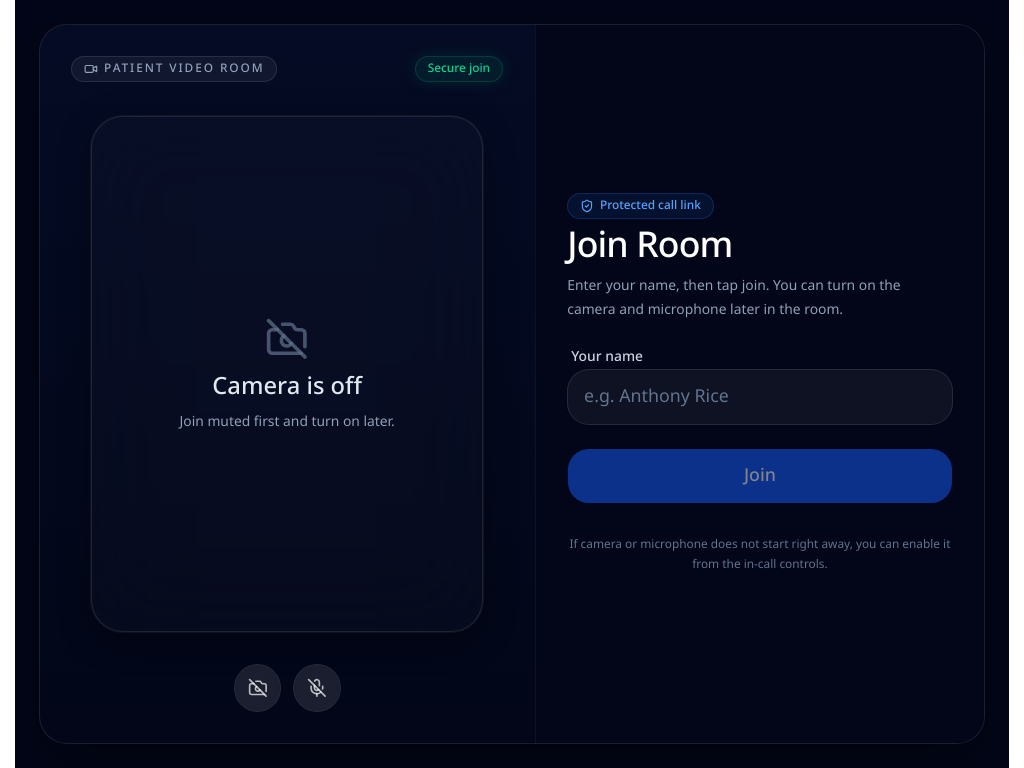
Test: Patient join bootstrap › does not start presence heartbeats when joinRoom throws during bootstrap
Type "Taylor Patient" into the field labelled "Your name" at x=760, y=397, box 567,369 -> 953,424
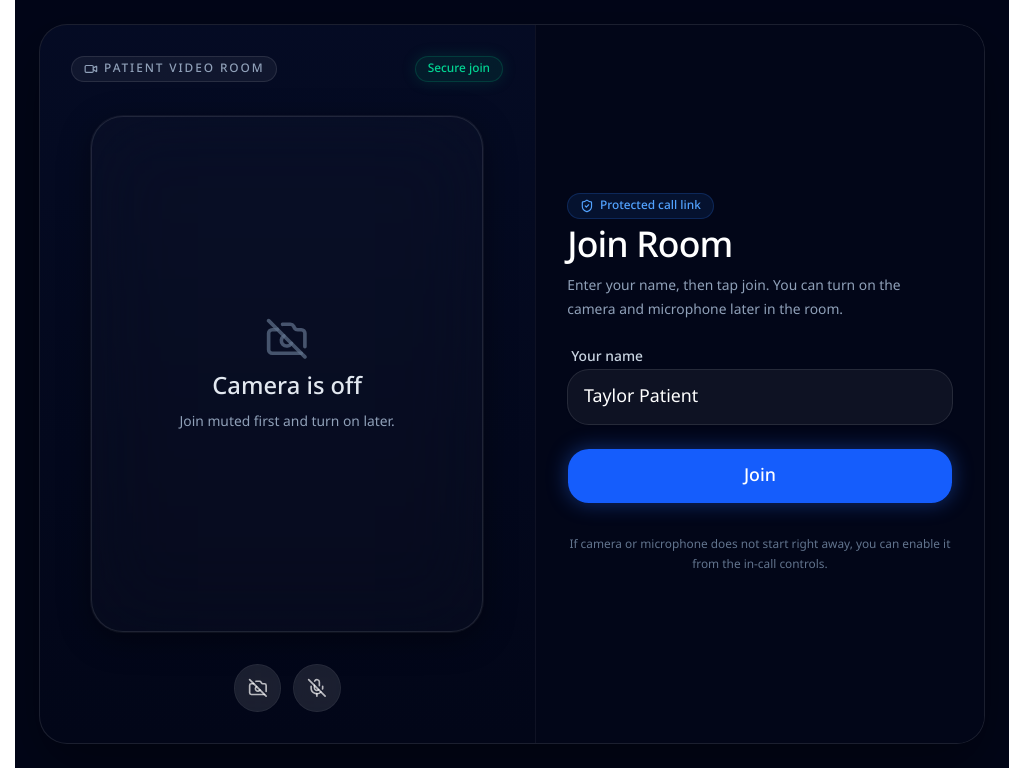
Click the button "Join" at x=760, y=476, box 567,448 -> 953,504
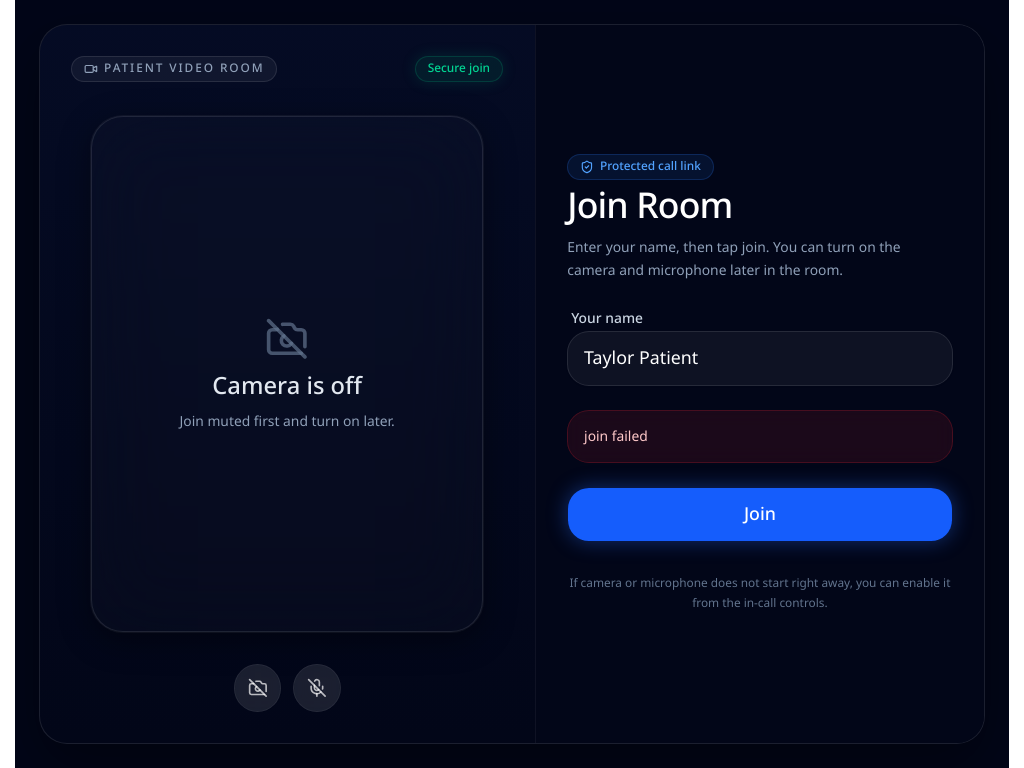
Expected: the text "join failed" is shown, 567,410 -> 953,463
